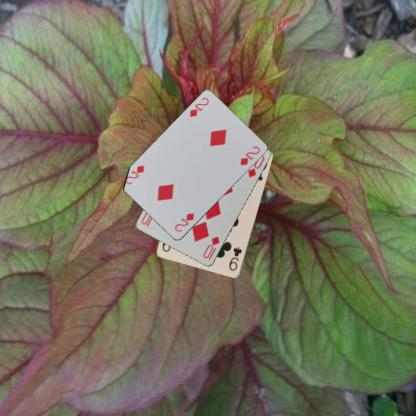10d: (200, 234, 221, 262)
2d: (172, 210, 195, 233), (187, 95, 210, 118)
9c: (226, 245, 244, 272)
